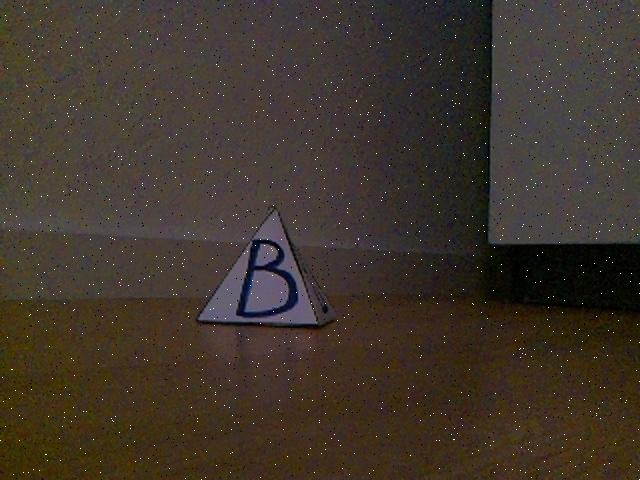B: (197, 209, 339, 329)
